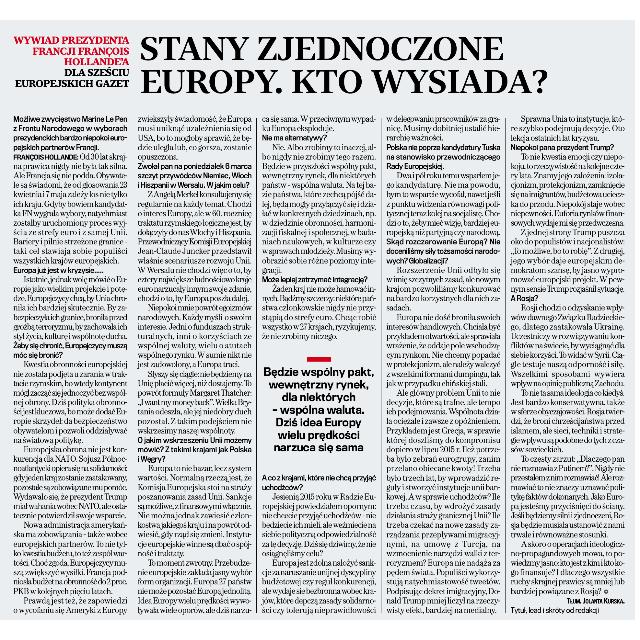author: (566, 596, 626, 606)
body: (384, 113, 504, 617), (136, 112, 254, 618), (508, 113, 628, 597), (10, 154, 130, 616), (260, 112, 378, 344), (260, 472, 378, 616), (261, 352, 377, 458)
lead: (10, 111, 130, 152)
title: (8, 30, 554, 101)
